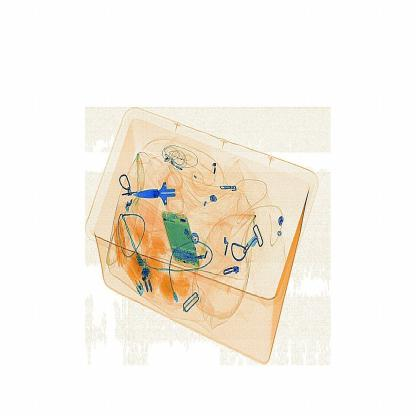gun: (130, 156, 189, 223)
